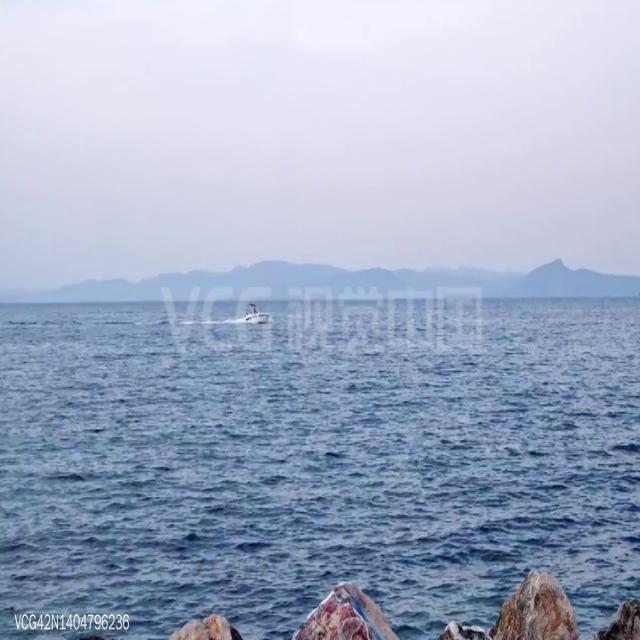houseboat: (244, 298, 268, 326)
